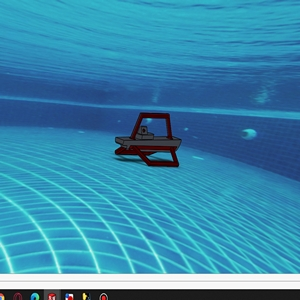submarine: (113, 109, 183, 171)
